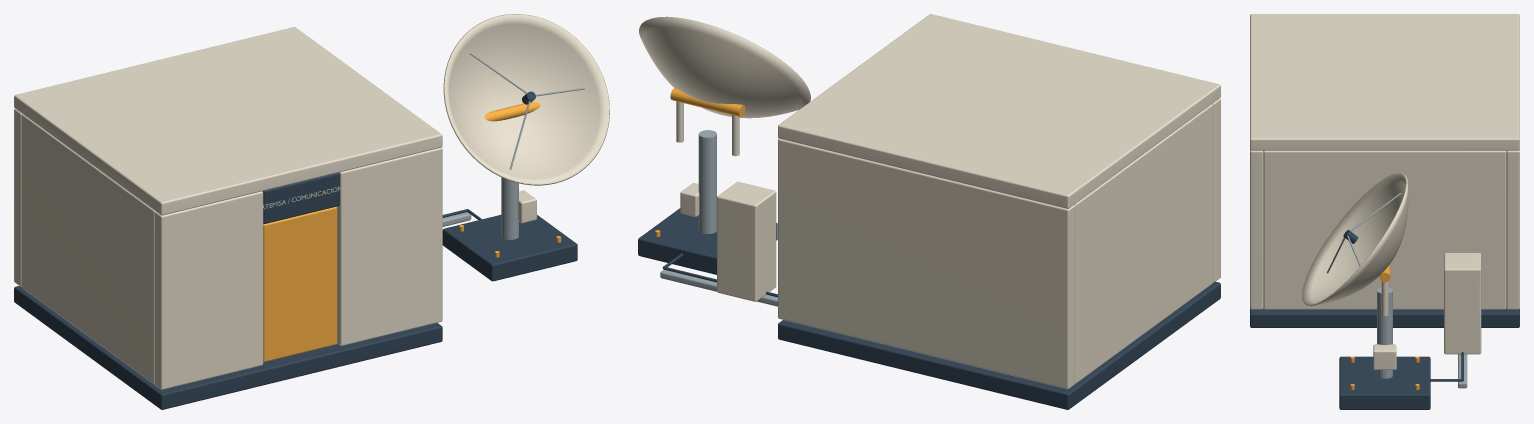
Rendered from communications.glb.
The picture shows the model from 3 angles, left to right: view 1: azimuth 30°, elevation 25°; view 2: azimuth 150°, elevation 25°; view 3: azimuth 270°, elevation 25°; orthographic projection. The views are drawn at different scales.
Visible parts, largest first — view 1: Body, Cover, Door_0; view 2: Body, Cover; view 3: Body, Cover.
Boxes of the visible parts, left/top/right/bottom form: Body: left=14, top=14, right=609, bottom=409; Cover: left=14, top=27, right=442, bottom=215; Door_0: left=263, top=206, right=337, bottom=361; Body: left=638, top=16, right=1220, bottom=409; Cover: left=778, top=14, right=1220, bottom=208; Body: left=1250, top=149, right=1519, bottom=409; Cover: left=1250, top=14, right=1519, bottom=150.
Size of the model in its own units: 7.82 by 3.41 by 4.02.
